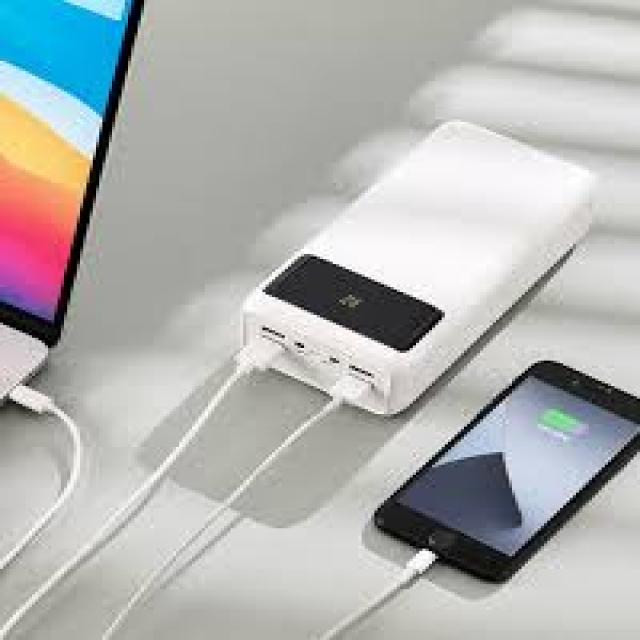portable-charger: (236, 118, 596, 421)
